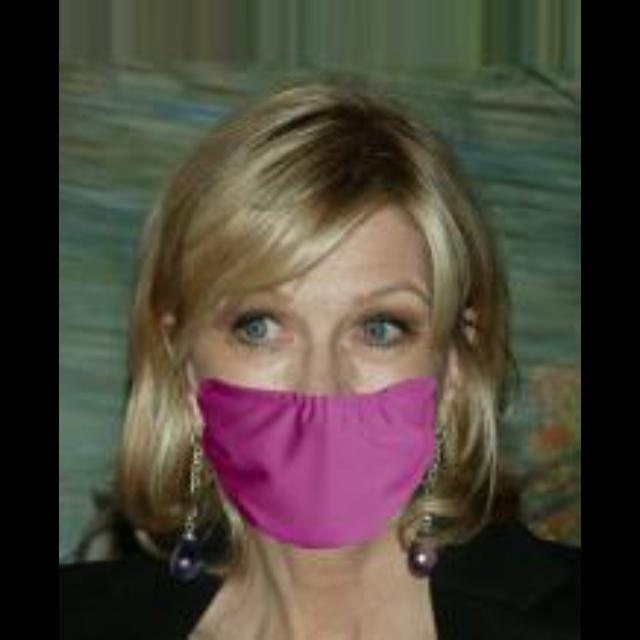suspicion: (128, 18, 510, 568)
